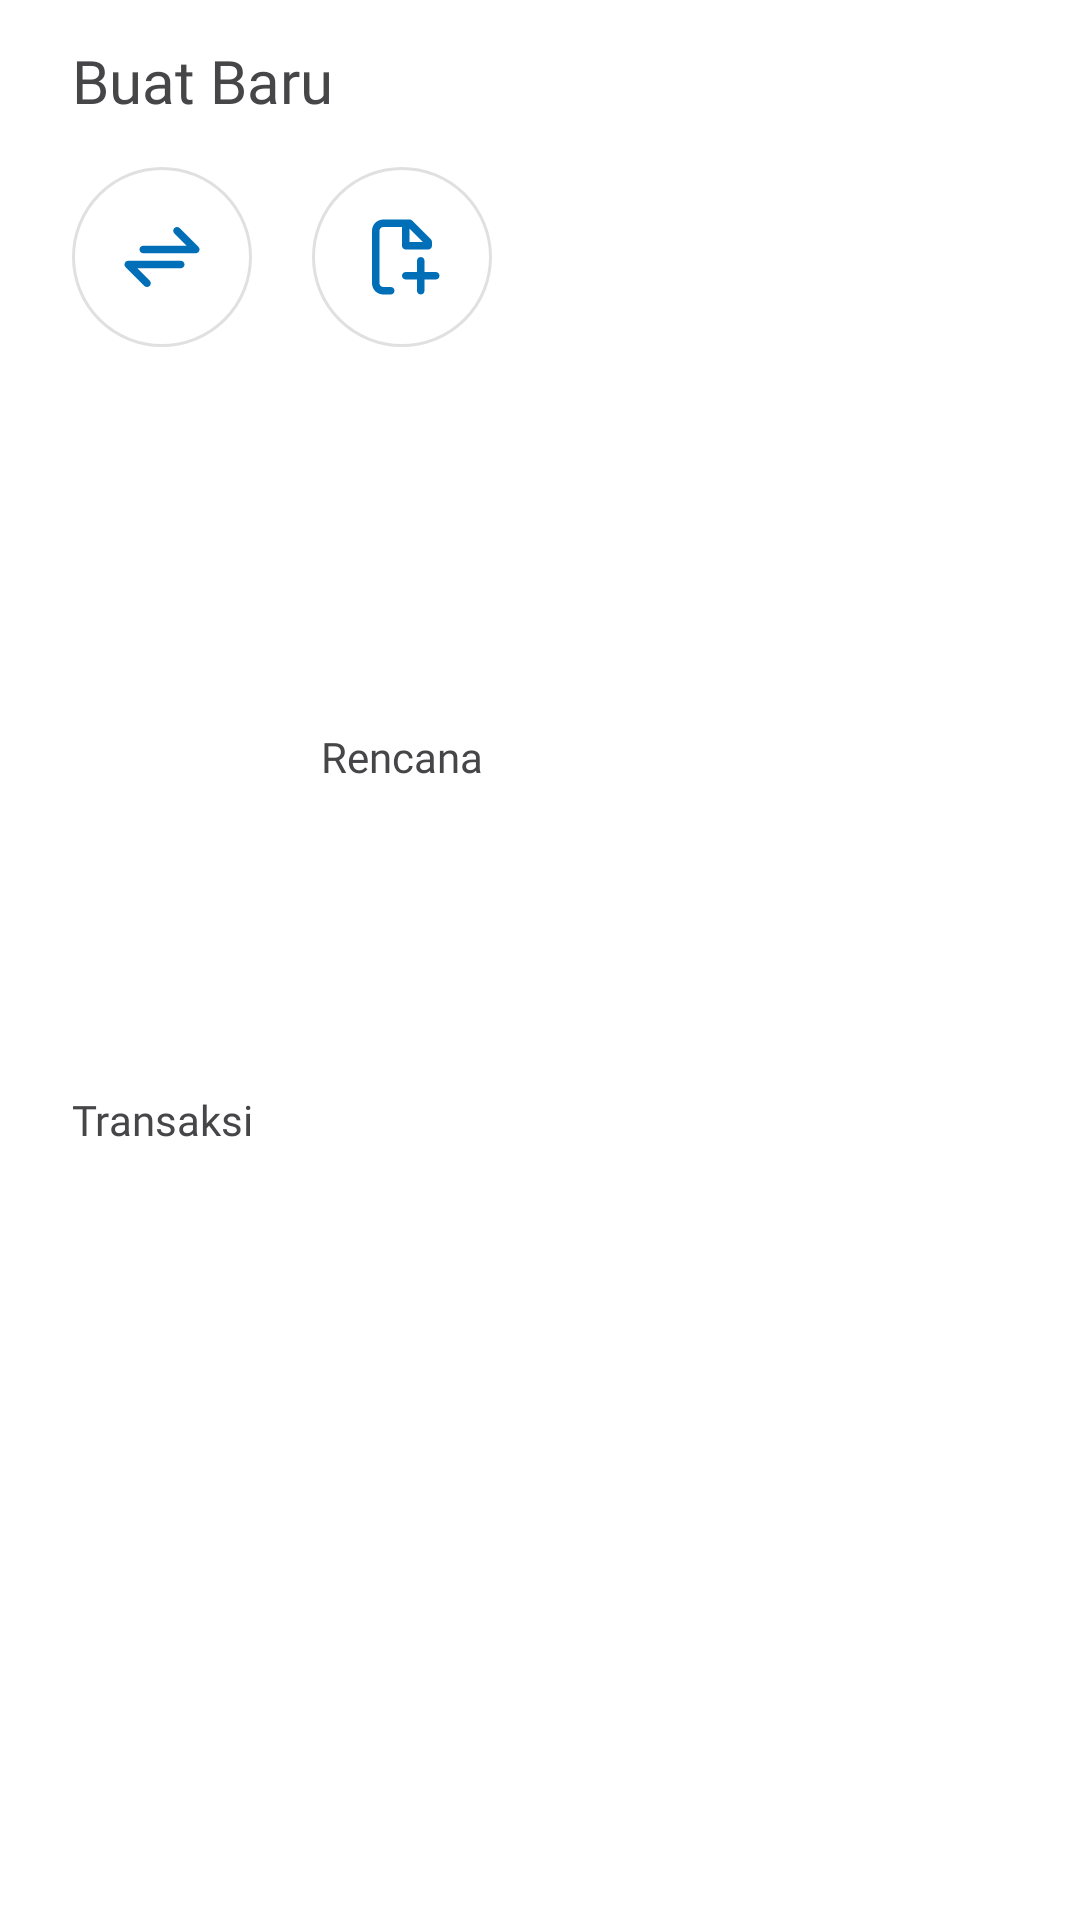

Point at icon controls on the screen. Image size 1080w x 1920h, points as [x,y].
transaction: [162,257]
